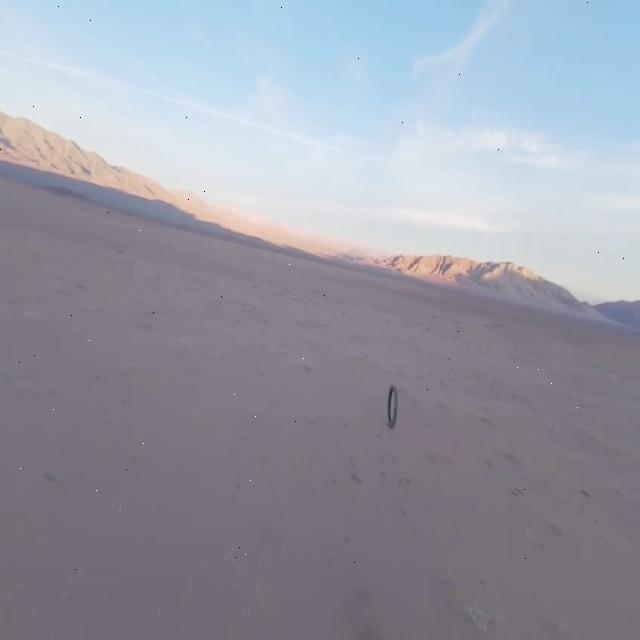Tire: (387, 384, 398, 428)
